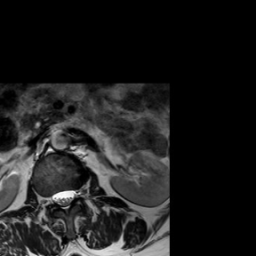CCS_normal: (60, 182, 68, 218)
LFS_normal: (76, 181, 83, 204)
LLS_normal: (68, 182, 76, 208)
RFS_normal: (44, 185, 52, 212)
RLS_normal: (52, 182, 60, 212)
